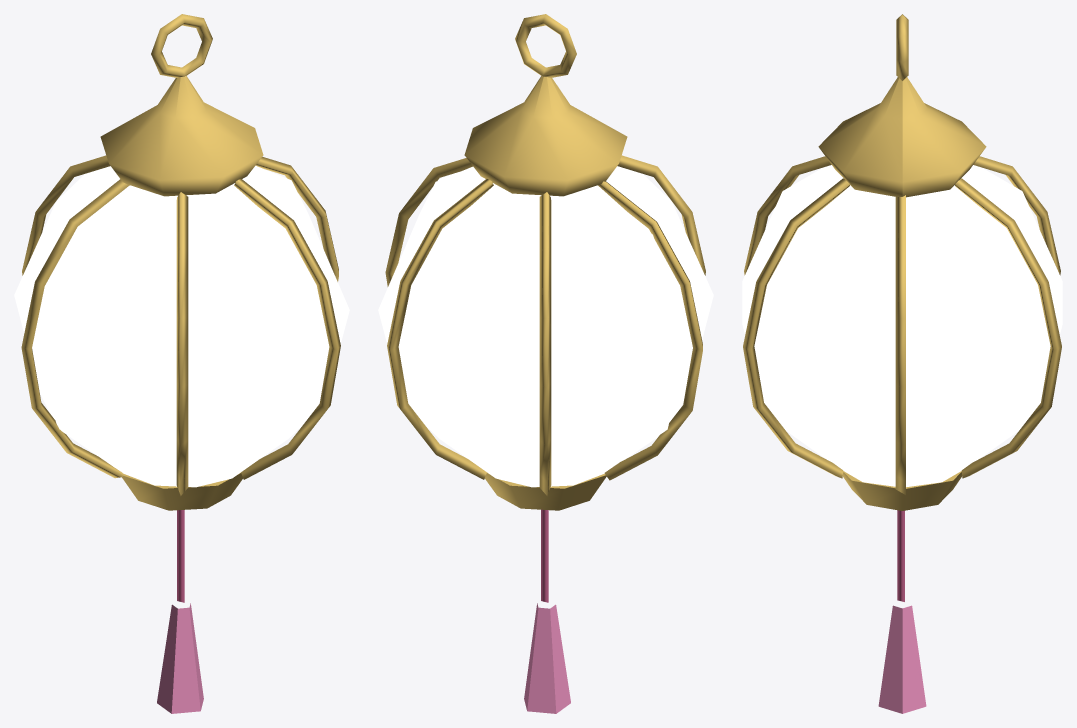
The model's file is lanterna-celeste.glb.
The picture shows the model from 3 angles, left to right: view 1: azimuth 30°, elevation 25°; view 2: azimuth 150°, elevation 25°; view 3: azimuth 270°, elevation 25°; orthographic projection.
Parts seen in each view (by area): view 1: lanterna-celeste; view 2: lanterna-celeste; view 3: lanterna-celeste.
Part boxes in pixels (x1,y1,x2,y2): lanterna-celeste: [14, 14, 349, 713]; lanterna-celeste: [378, 14, 713, 713]; lanterna-celeste: [742, 14, 1062, 713].
Size of the model in its own units: 0.9116 by 1.89 by 0.798.
